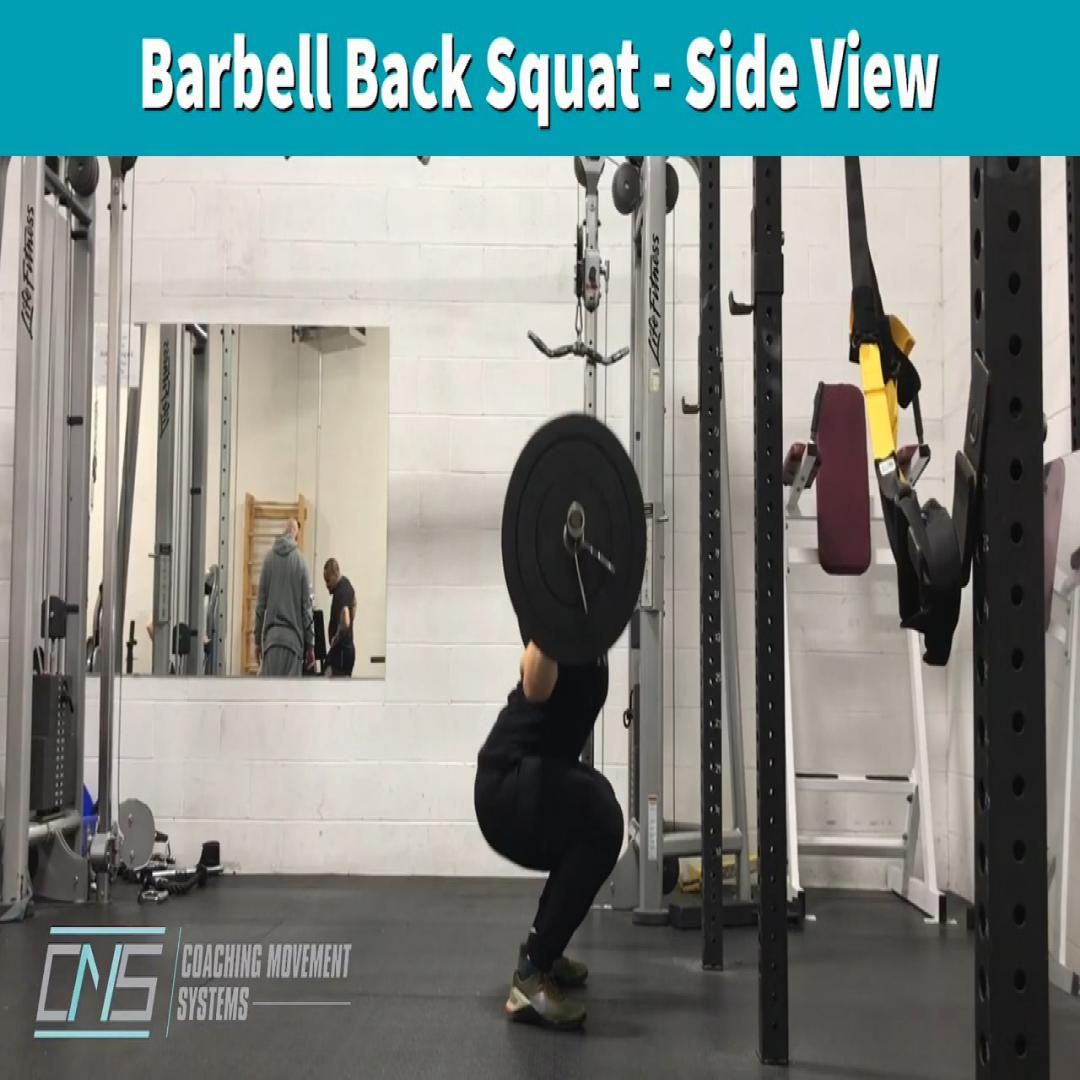Bar: (566, 500, 586, 538)
Barbell: (500, 412, 648, 666)
